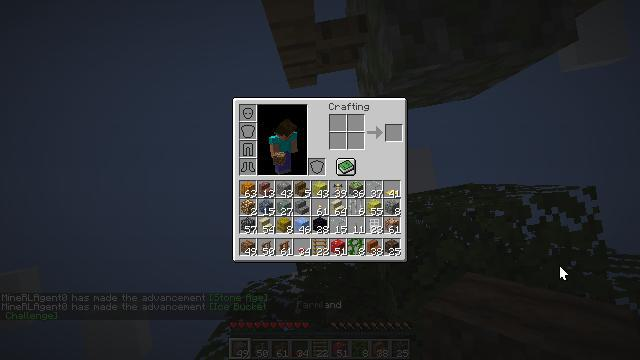cursor: (559, 265, 569, 281)
